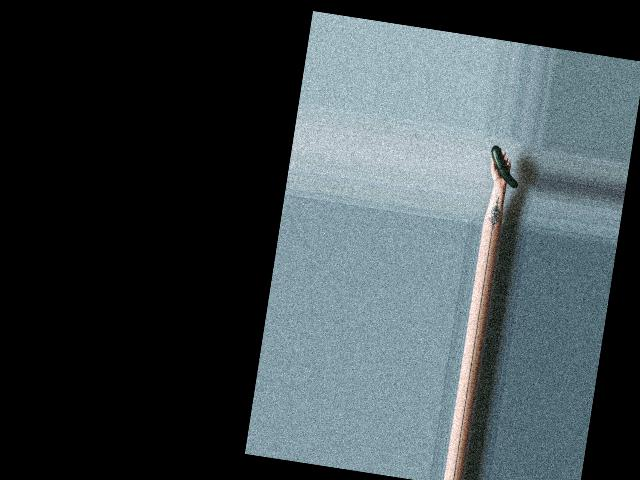cucumber: (486, 144, 523, 188)
